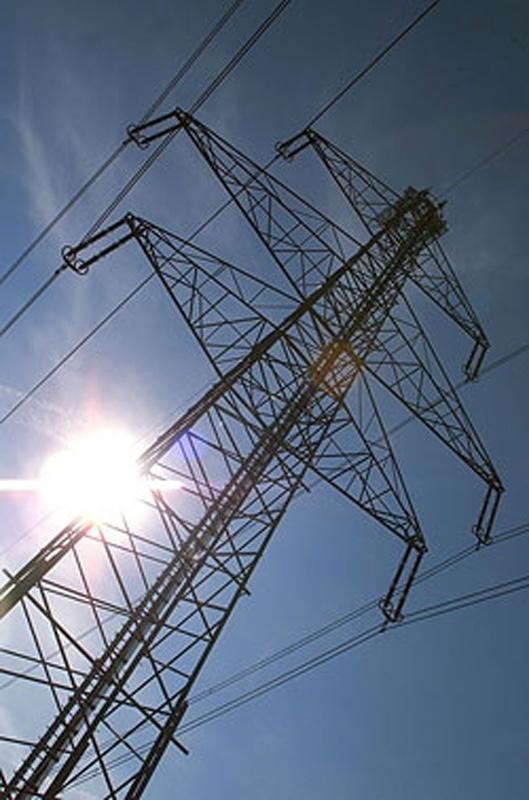power_tower: (8, 166, 456, 792)
